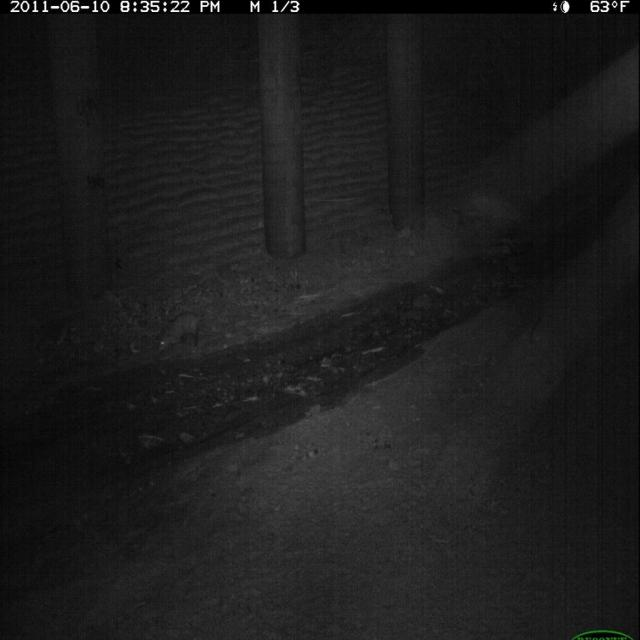opossum: (150, 308, 227, 363)
